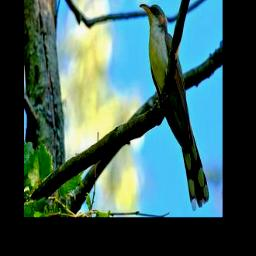Cuckoo: (140, 3, 209, 209)
